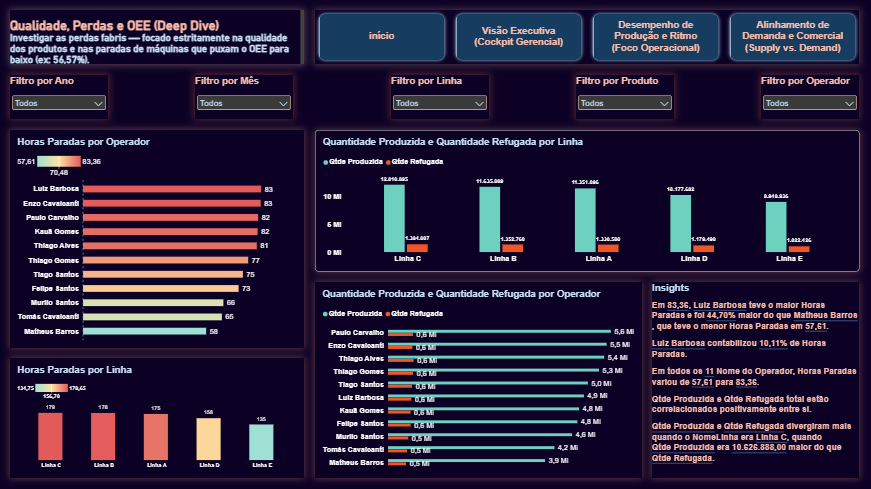

What the dashboard file says about the page in this screenshot:
{"tool":"powerbi","page":{"name":"Qualidade, Perdas e OEE (Deep Dive)","canvas":[1920,1080],"ordinal":3},"visuals":[{"type":"textbox","box":[24,24,648,120],"z":0},{"type":"pageNavigator","title":"Navegação","box":[696,24,1200,120],"z":1000},{"type":"slicer","title":"Filtro por Ano","fields":{"Values":["dCalendario.Ano"]},"box":[24,168,216,96],"z":1001},{"type":"slicer","title":"Filtro por Mês","fields":{"Values":["dCalendario.Mês"]},"box":[432,168,216,96],"z":1002},{"type":"slicer","title":"Filtro por Linha","fields":{"Values":["dLinhaProducao.NomeLinha"]},"box":[864,168,216,96],"z":1003},{"type":"slicer","title":"Filtro por Produto","fields":{"Values":["dProduto.NomeProduto"]},"box":[1272,168,216,96],"z":1004},{"type":"slicer","title":"Filtro por Operador","fields":{"Values":["dOperador.NomeOperador"]},"box":[1680,168,216,96],"z":1005},{"type":"barChart","title":"Horas Paradas por Operador","fields":{"Category":["dOperador.NomeOperador"],"Y":["_Medidas.Horas Paradas"]},"box":[24,288,648,480],"z":1006},{"type":"clusteredColumnChart","title":"Quantidade Produzida e Quantidade Refugada por Linha","fields":{"Category":["dLinhaProducao.NomeLinha"],"Y":["_Medidas.Qtde Produzida","_Medidas.Qtde Refugada"]},"box":[696,288,1200,312],"z":1007},{"type":"clusteredBarChart","title":"Quantidade Produzida e Quantidade Refugada por Operador","fields":{"Category":["dOperador.NomeOperador"],"Y":["_Medidas.Qtde Produzida","_Medidas.Qtde Refugada"]},"box":[696,624,720,432],"z":1009},{"type":"clusteredColumnChart","title":"Horas Paradas por Linha","fields":{"Category":["dLinhaProducao.NomeLinha"],"Y":["_Medidas.Horas Paradas"]},"box":[24,792,648,264],"z":1011},{"type":"textbox","title":"Insights","box":[1440,624,456,432],"z":1012}]}

Visuals, with their boxes in screenshot pixels (x1, y1, x2, y2), scaled from the page's 1920x1080 canvas onto the 871x489 screenshot:
textbox: 11, 11, 305, 65
"Navegação" pageNavigator: 316, 11, 860, 65
"Filtro por Ano" slicer: 11, 76, 109, 120
"Filtro por Mês" slicer: 196, 76, 294, 120
"Filtro por Linha" slicer: 392, 76, 490, 120
"Filtro por Produto" slicer: 577, 76, 675, 120
"Filtro por Operador" slicer: 762, 76, 860, 120
"Horas Paradas por Operador" barChart: 11, 130, 305, 348
"Quantidade Produzida e Quantidade Refugada por Linha" clusteredColumnChart: 316, 130, 860, 272
"Quantidade Produzida e Quantidade Refugada por Operador" clusteredBarChart: 316, 283, 642, 478
"Horas Paradas por Linha" clusteredColumnChart: 11, 359, 305, 478
"Insights" textbox: 653, 283, 860, 478
